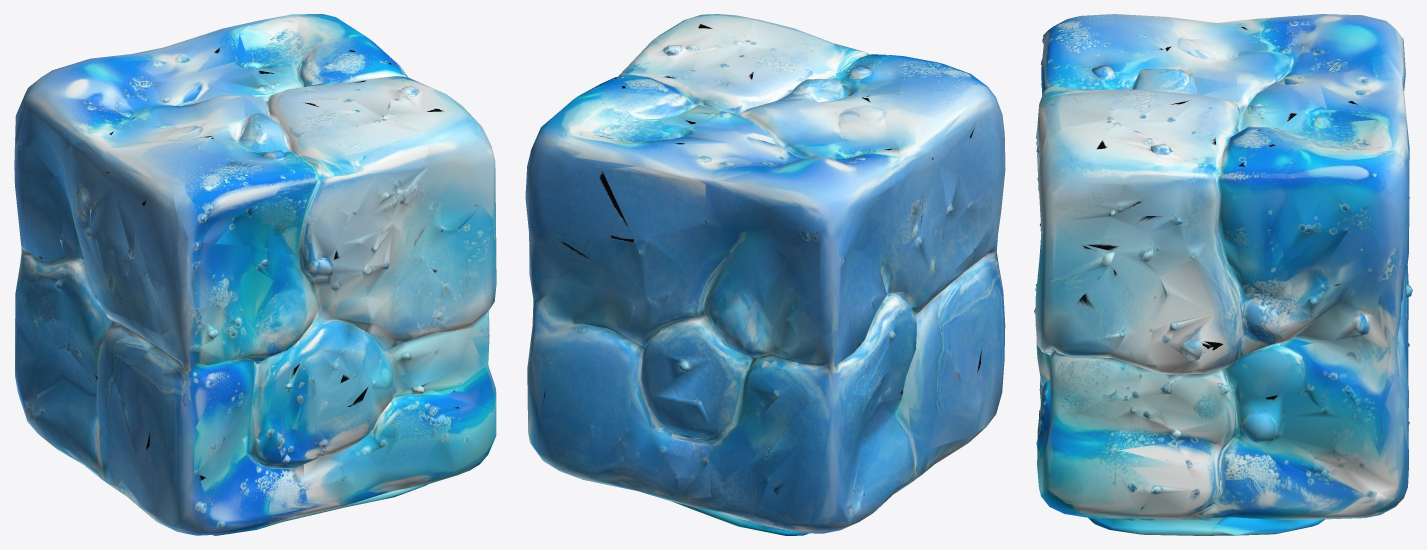
Rendered from buz_kup_2_parcali.glb.
3 views of the same model, side by side, from view 1: azimuth 30°, elevation 25°; view 2: azimuth 150°, elevation 25°; view 3: azimuth 270°, elevation 25° (orthographic). The views are drawn at different scales.
Visible parts, largest first — view 1: p07, p06, p08, p00, p11, p09, p04, p05, p03, p02; view 2: p08, p01, p11, p00, p10, p06, p02, p07, p03; view 3: p02, p01, p08, p04, p05, p06, p03, p00.
Part boxes in pixels (bbox=[...]): p07: bbox=[142, 278, 341, 535]; p06: bbox=[174, 87, 428, 271]; p08: bbox=[14, 14, 307, 202]; p00: bbox=[16, 138, 195, 322]; p11: bbox=[15, 274, 162, 524]; p09: bbox=[171, 234, 372, 402]; p04: bbox=[357, 193, 496, 408]; p05: bbox=[263, 384, 496, 527]; p03: bbox=[305, 84, 495, 310]; p02: bbox=[296, 14, 450, 97]; p08: bbox=[557, 90, 907, 351]; p01: bbox=[525, 187, 719, 519]; p11: bbox=[718, 266, 982, 535]; p00: bbox=[787, 90, 1003, 398]; p10: bbox=[647, 298, 811, 511]; p06: bbox=[714, 20, 1002, 115]; p02: bbox=[526, 38, 697, 206]; p07: bbox=[951, 158, 1005, 431]; p03: bbox=[655, 14, 762, 105]; p02: bbox=[1093, 126, 1409, 383]; p01: bbox=[1159, 218, 1409, 535]; p08: bbox=[1168, 14, 1409, 198]; p04: bbox=[1034, 235, 1170, 457]; p05: bbox=[1036, 335, 1235, 535]; p06: bbox=[1035, 15, 1225, 183]; p03: bbox=[1038, 113, 1241, 257]; p00: bbox=[1098, 14, 1240, 41].
Bounding box in the file's own units: 0.9151 × 0.9812 × 0.8726.
Materials: 2 (1 with a texture image).
